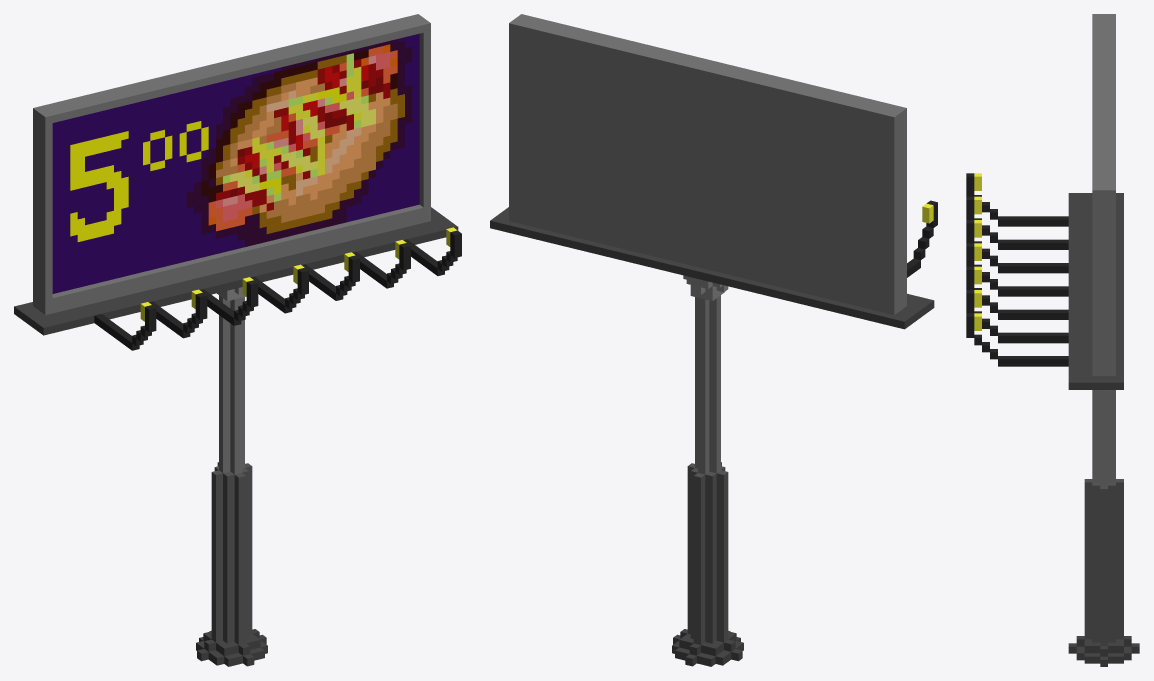
The model's file is bilboardHodDog.obj.
3 views of the same model, side by side, from view 1: azimuth 30°, elevation 25°; view 2: azimuth 150°, elevation 25°; view 3: azimuth 270°, elevation 25° (orthographic). The views are drawn at different scales.
Bounding box in the file's own units: 5.7 × 7.7 × 2.2.
